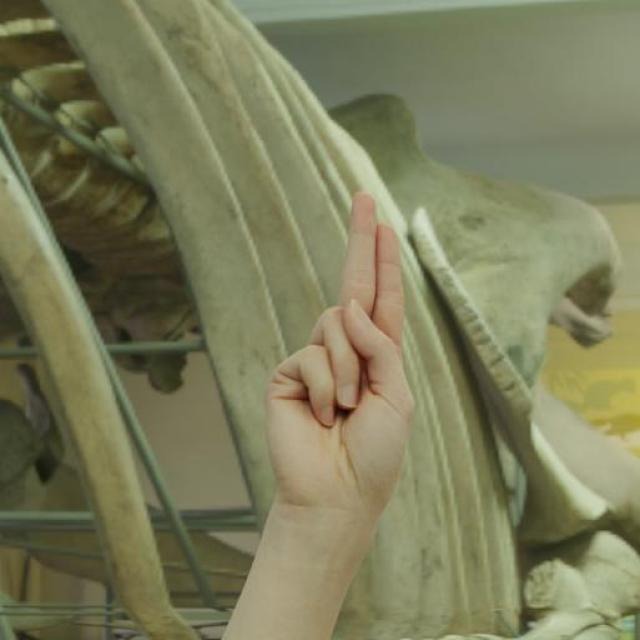U: (256, 188, 415, 522)
